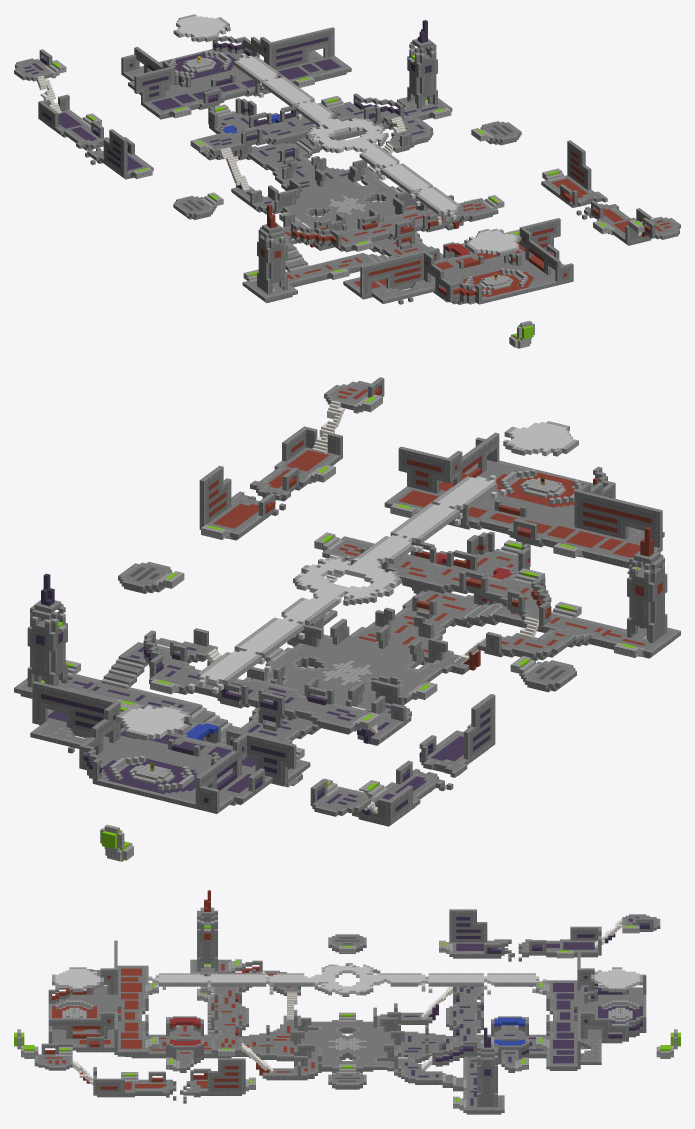
The model's file is minecraft.obj.
The picture shows the model from 3 angles, top to bottom: view 1: azimuth 30°, elevation 25°; view 2: azimuth 150°, elevation 25°; view 3: azimuth 270°, elevation 25°; orthographic projection. The views are drawn at different scales.
Size of the model in its own units: 105 by 31 by 193.
